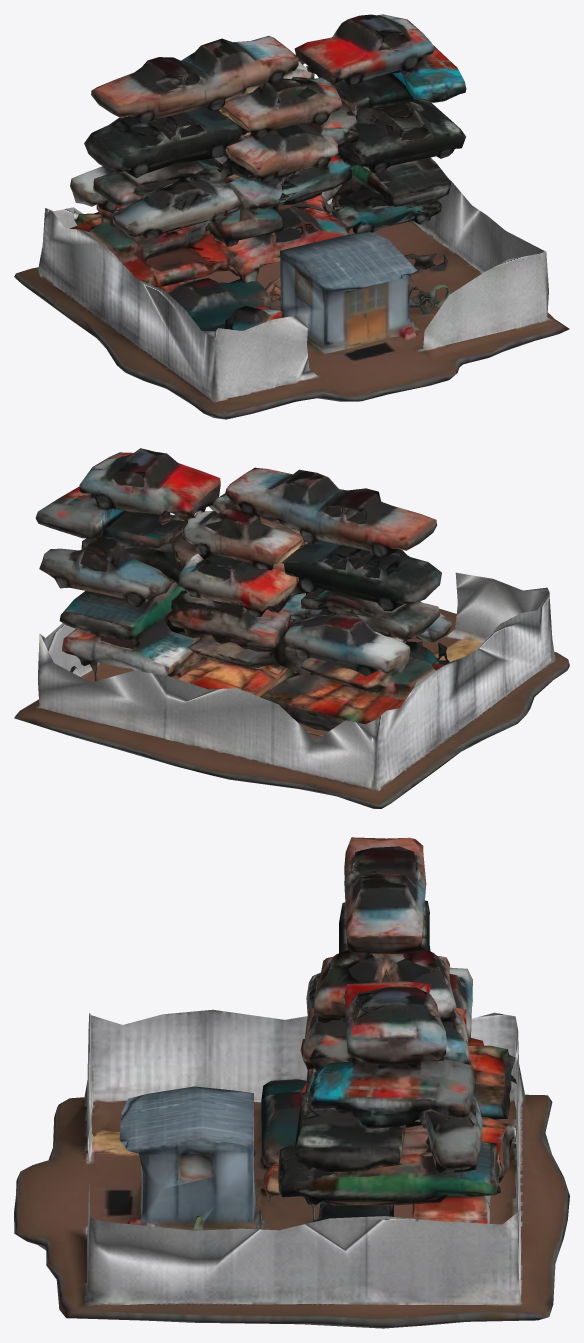
File: junkyard.glb
The picture shows the model from 3 angles, top to bottom: view 1: azimuth 30°, elevation 25°; view 2: azimuth 150°, elevation 25°; view 3: azimuth 270°, elevation 25°; orthographic projection. The views are drawn at different scales.
Bounding box in the file's own units: 0.9949 × 0.6111 × 0.9908.
Materials: 1 (1 with a texture image).
